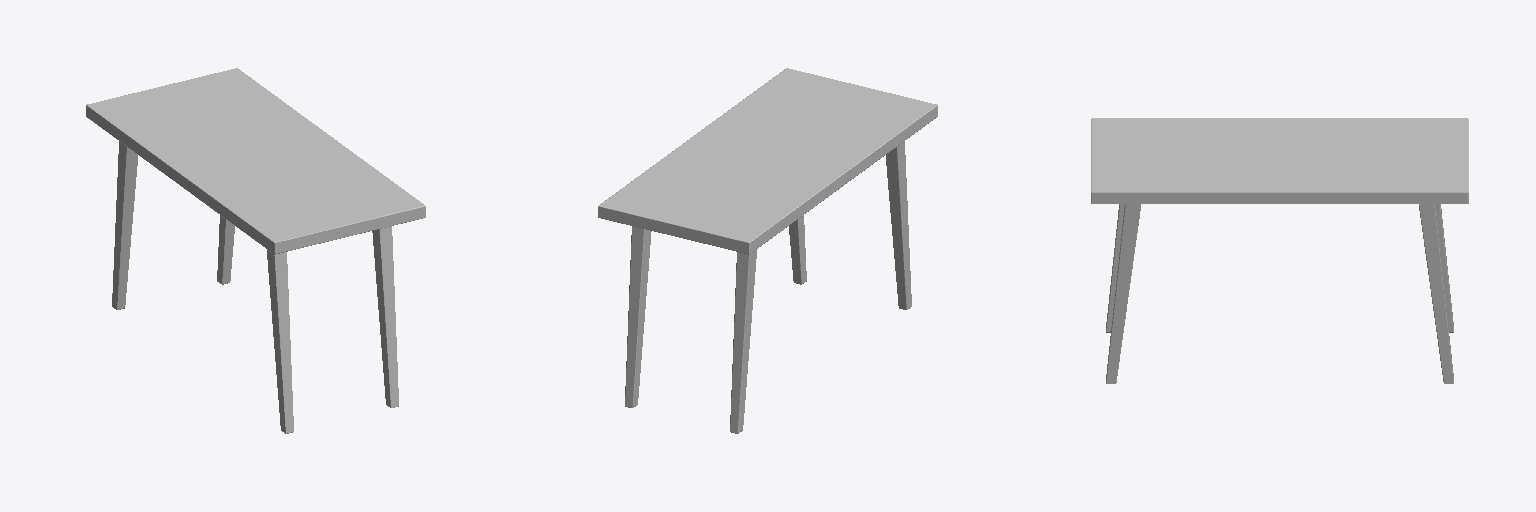
File: mesa_3.obj
3 views of the same model, side by side, from view 1: azimuth 30°, elevation 25°; view 2: azimuth 150°, elevation 25°; view 3: azimuth 270°, elevation 25° (orthographic).
Parts seen in each view (by area): view 1: Cubo; view 2: Cubo; view 3: Cubo.
Part boxes in pixels (bbox=[...]): Cubo: bbox=[86, 68, 425, 433]; Cubo: bbox=[598, 68, 937, 433]; Cubo: bbox=[1091, 118, 1468, 383].
Bounding box in the file's own units: 1.3 × 1.65 × 2.8.